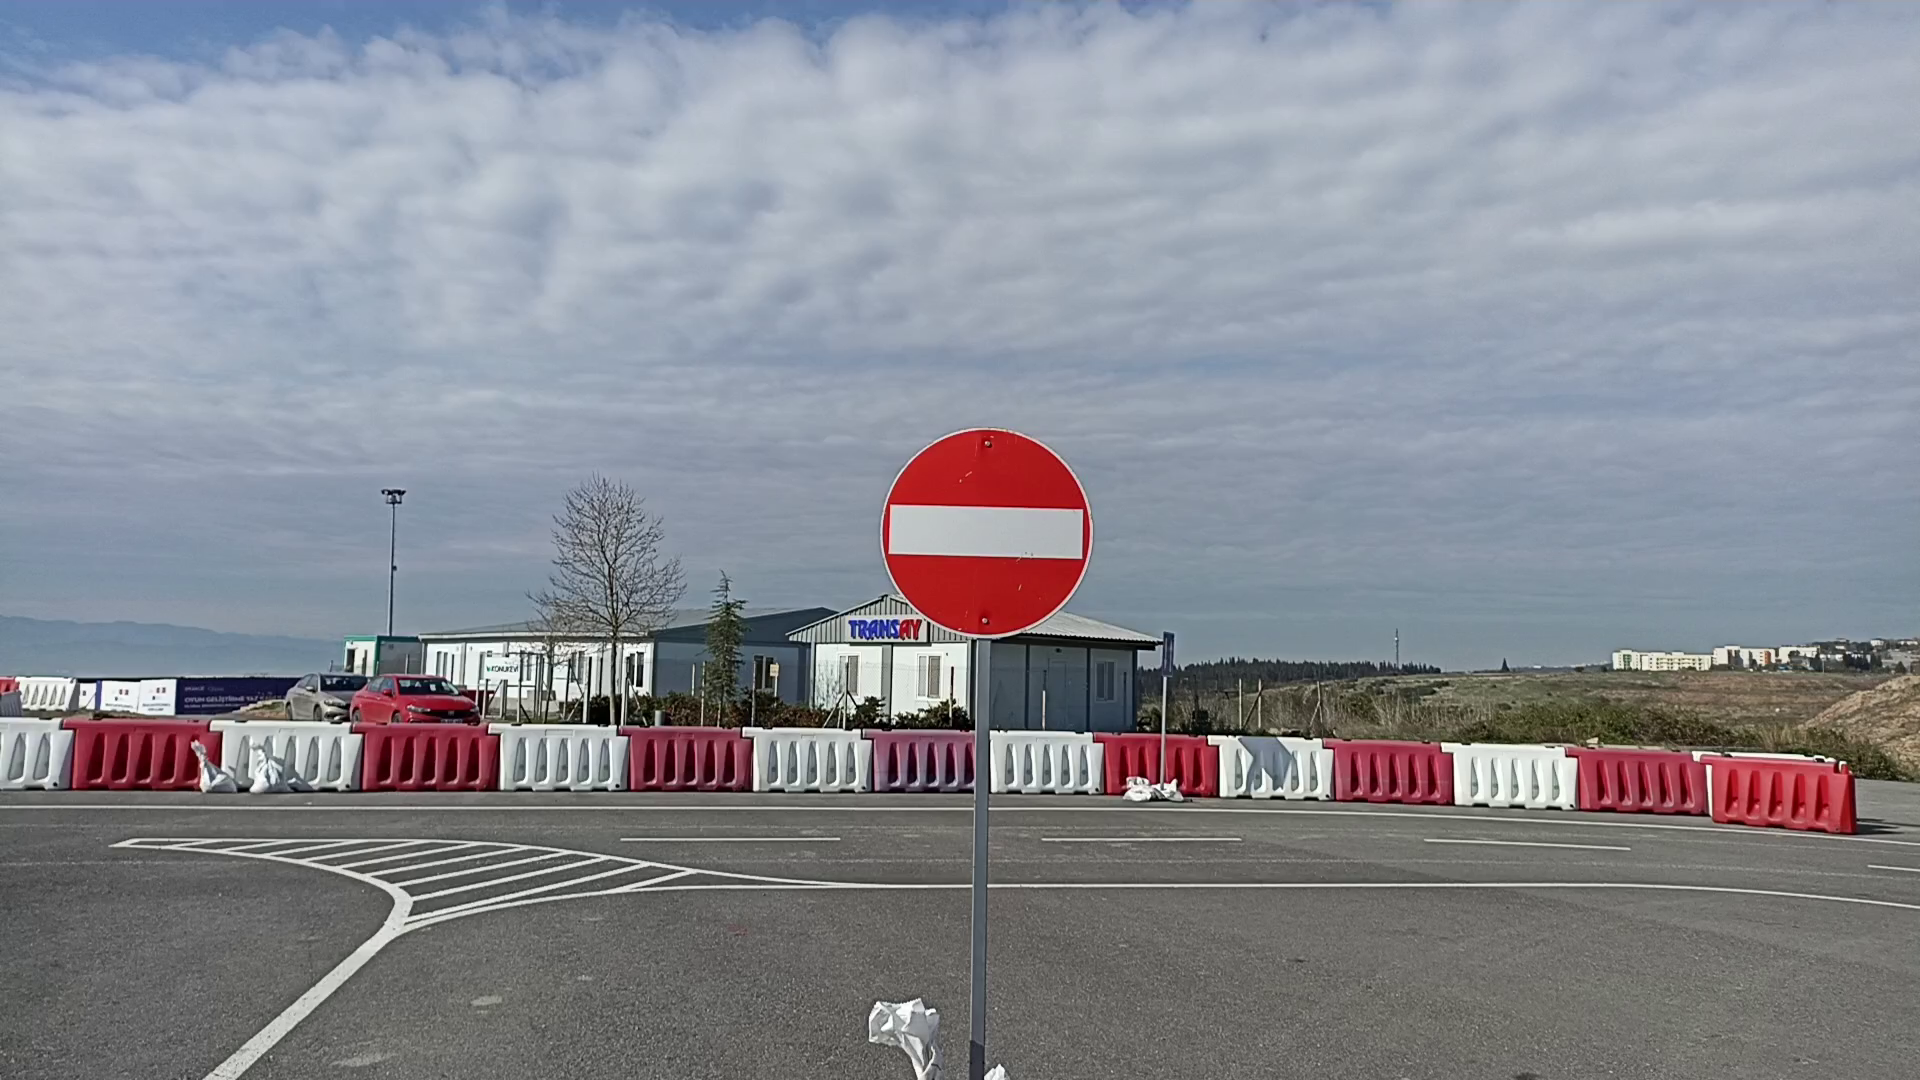noentryway: (880, 425, 1098, 642)
